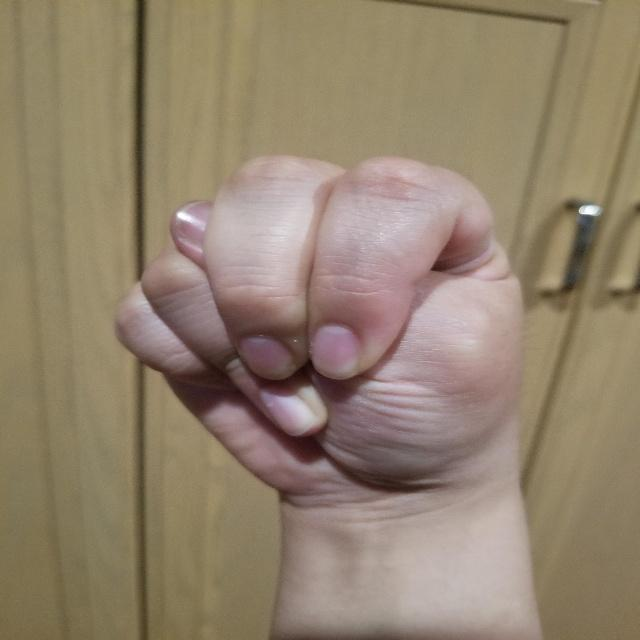N: (99, 144, 533, 500)
